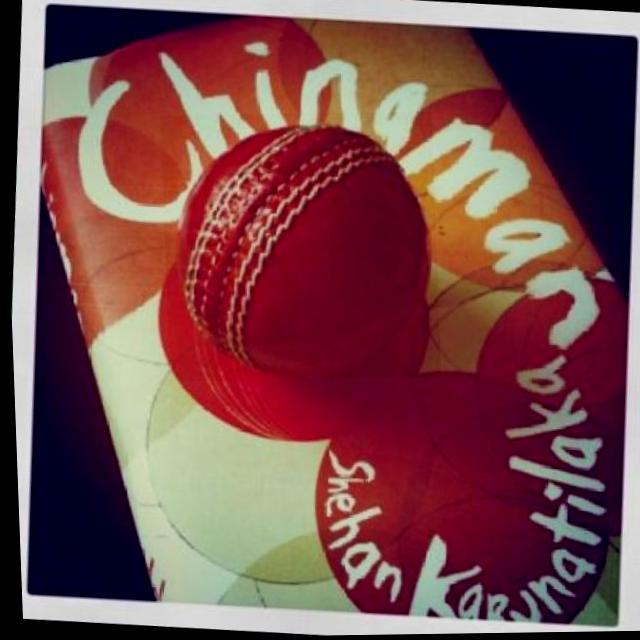-: (160, 113, 438, 382)
